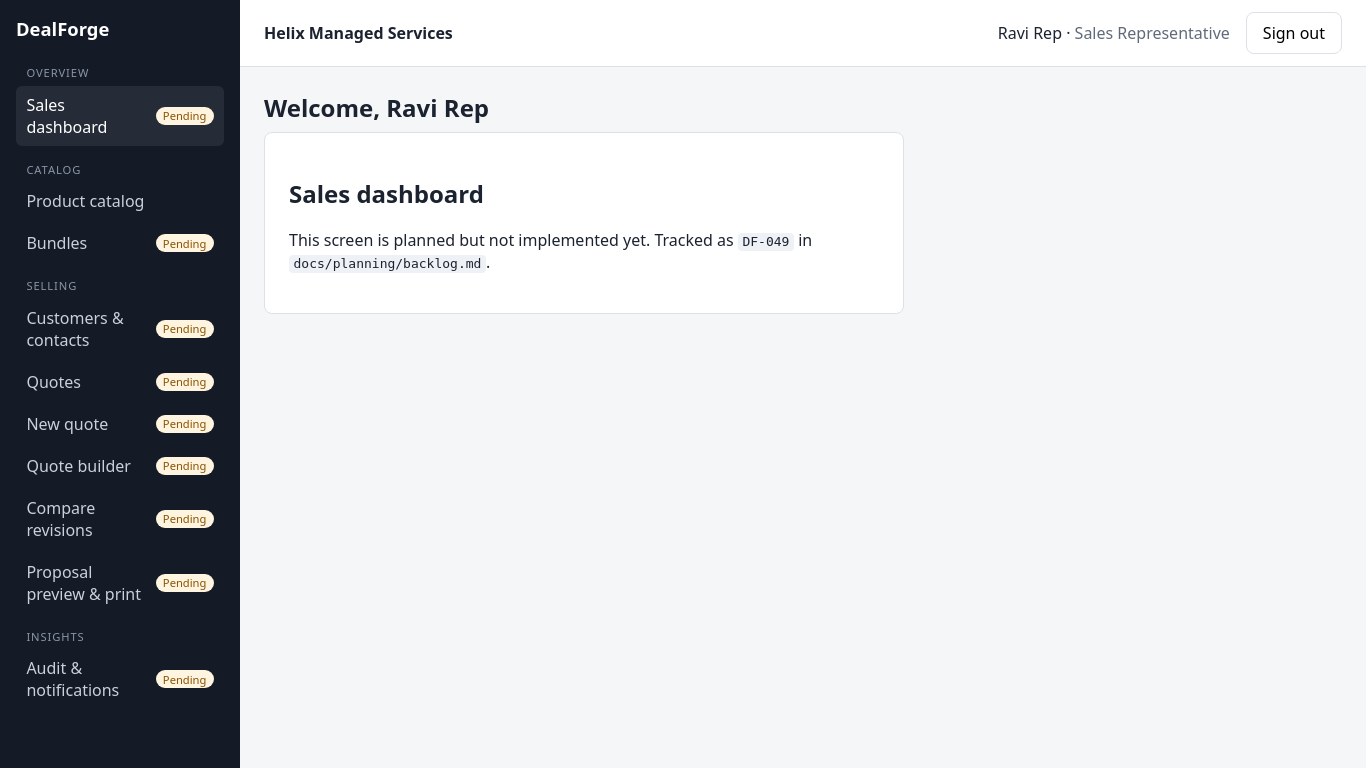
Test: App routing and authentication › restores an existing session, shows the dashboard and signs out
This screenshot has width=1366, height=768.
Check: the heading "Welcome, Ravi Rep" is shown, box [264,91,489,124]
Check: the text "DF-049" is shown, box [738,233,794,251]
What coordinates should you click on to do the following:
click the button "Sign out"
I would click on:
 (1294, 33)
Its box is [1246,12,1342,54].
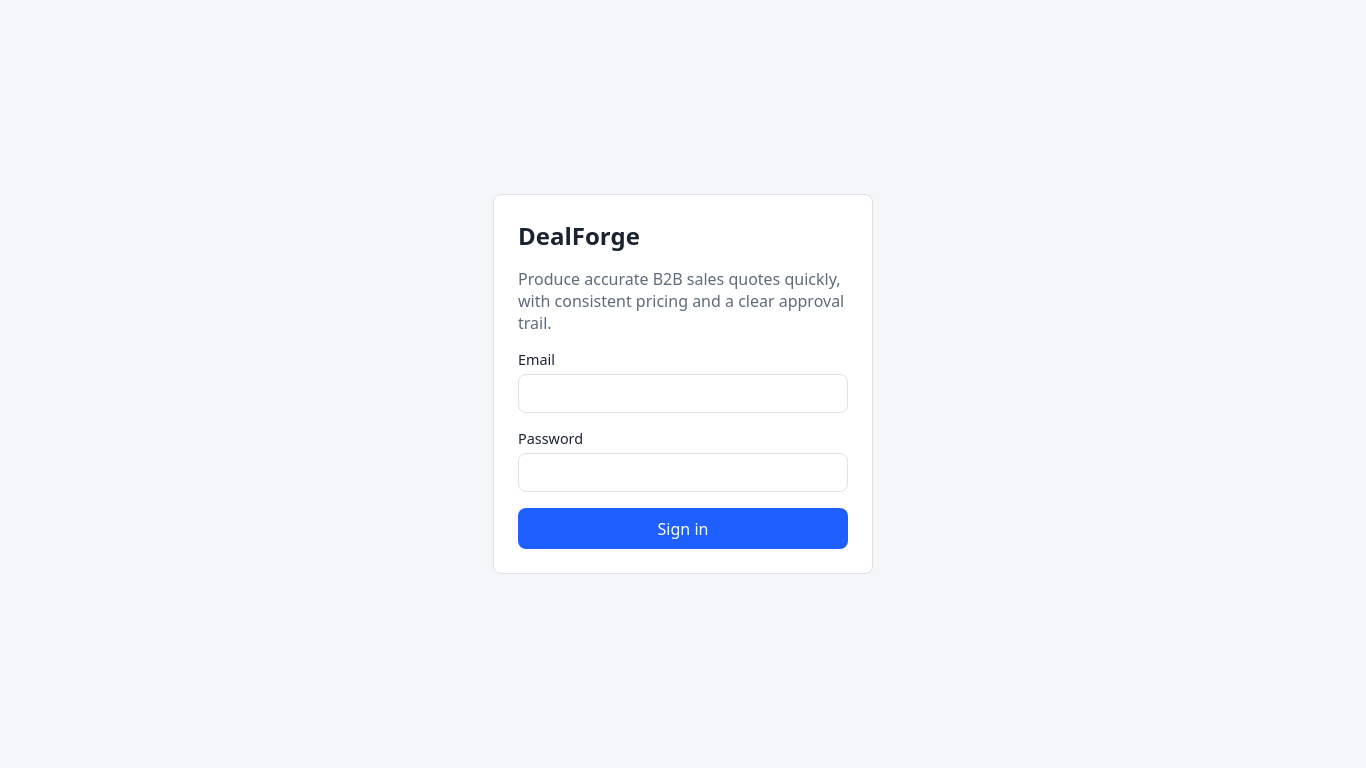
Check: the button "Sign in" is shown, box [518,508,848,550]
